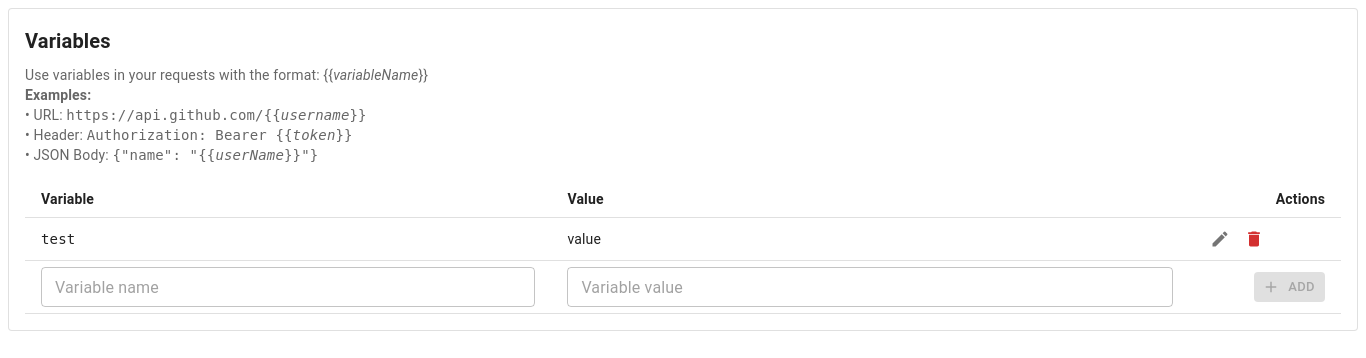
ExistingVariables › should enter edit mode when edit button is clicked
Click the button titled "Edit": (1220, 239) left=1205, top=224, right=1235, bottom=254
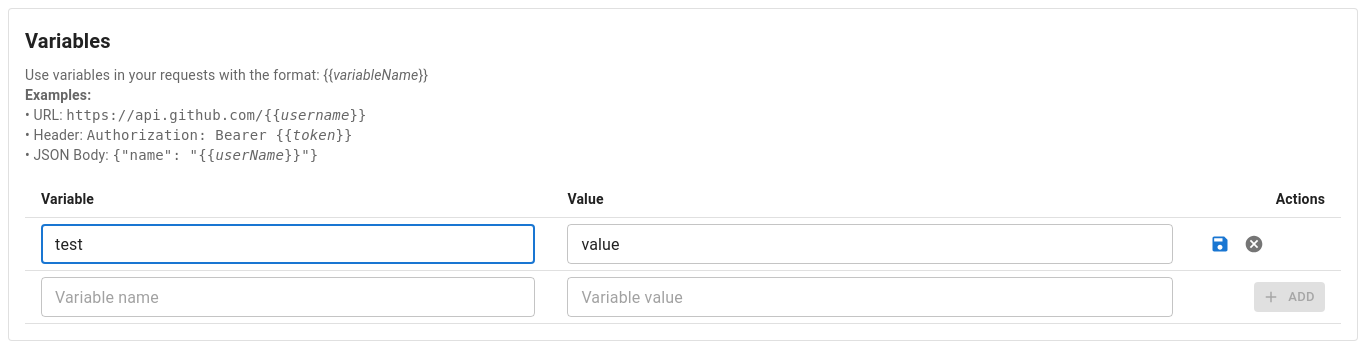
Now the button titled "Save" is shown, box left=1205, top=229, right=1235, bottom=259
Now the button titled "Cancel" is shown, box left=1239, top=229, right=1269, bottom=259
Now the number of fields showing "test" is 1, box left=41, top=224, right=535, bottom=264
